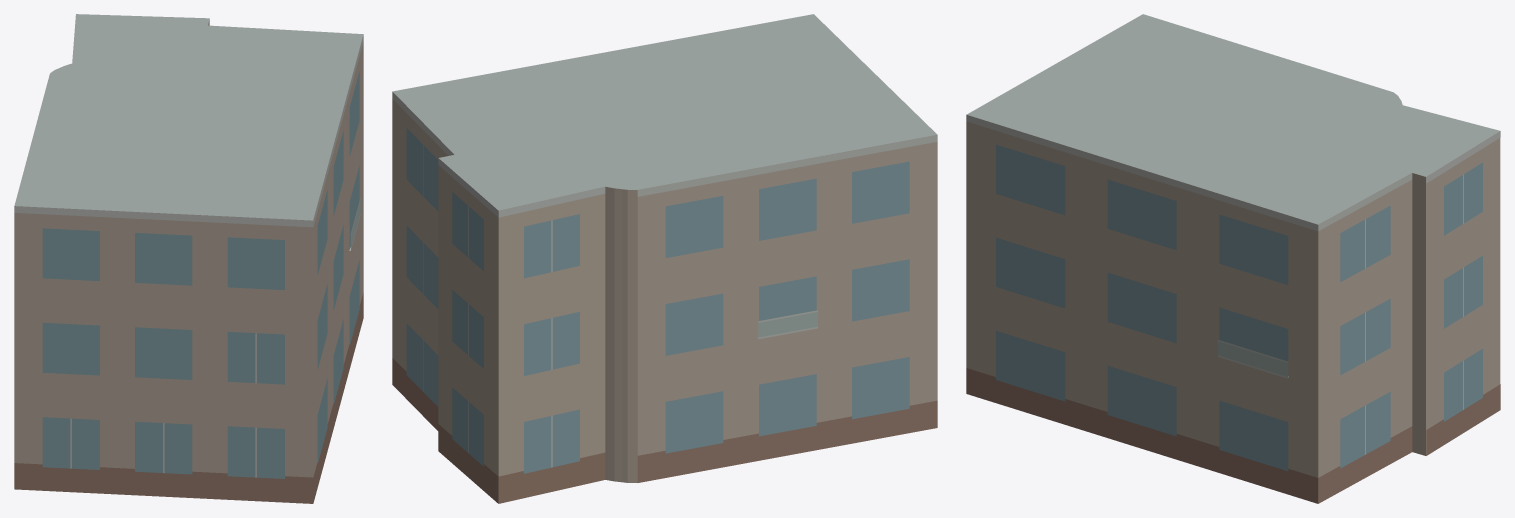
Rendered from survey-upis-32890393.glb.
3 renders of one model, left to right at view 1: azimuth 30°, elevation 25°; view 2: azimuth 150°, elevation 25°; view 3: azimuth 270°, elevation 25°, orthographic. The views are drawn at different scales.
Parts seen in each view (by area): view 1: survey-upis-32890393.tmp; view 2: survey-upis-32890393.tmp; view 3: survey-upis-32890393.tmp.
Boxes of the visible parts, x1=… form: survey-upis-32890393.tmp: x1=14, y1=14, x2=363, y2=503; survey-upis-32890393.tmp: x1=392, y1=14, x2=937, y2=503; survey-upis-32890393.tmp: x1=966, y1=14, x2=1500, y2=503.
Bounding box in the file's own units: 16.52 × 10.2 × 17.69.
